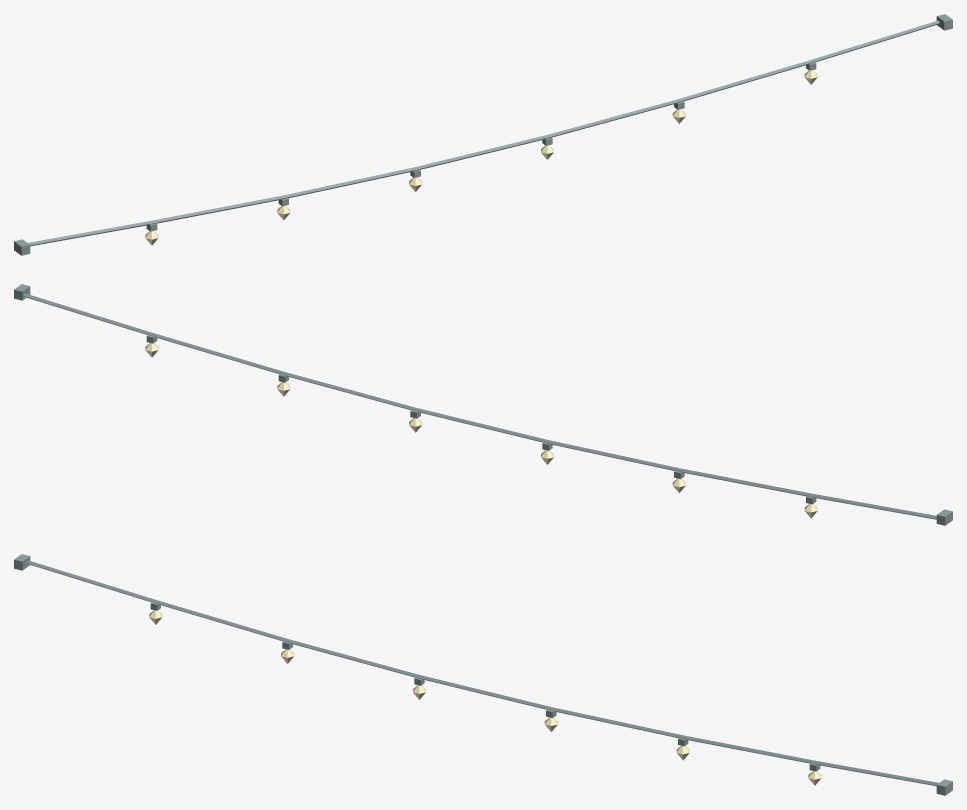
File: string_lights_4.glb
3 views of the same model, one above another, from view 1: azimuth 30°, elevation 25°; view 2: azimuth 150°, elevation 25°; view 3: azimuth 330°, elevation 25° (orthographic).
Visible parts, largest first — view 1: Cord.001, Cord.002, Cord.003, Cord.004, Cord.005, Cord.006, Cord; view 2: Cord.005, Cord.001, Cord.004, Cord.002, Cord.003, Cord.006, Cord; view 3: Cord.005, Cord.001, Cord.002, Cord.003, Cord.004, Cord, Cord.006.
Boxes of the visible parts, <box> form: Cord.001: <box>152,195,284,223</box>; Cord.002: <box>284,167,416,198</box>; Cord.003: <box>416,135,548,170</box>; Cord.004: <box>547,99,680,137</box>; Cord.005: <box>679,60,811,101</box>; Cord.006: <box>811,20,939,62</box>; Cord: <box>28,220,152,246</box>; Cord.005: <box>151,332,283,374</box>; Cord.001: <box>678,468,810,496</box>; Cord.004: <box>283,372,415,410</box>; Cord.002: <box>546,440,678,471</box>; Cord.003: <box>414,408,547,442</box>; Cord.006: <box>23,293,151,335</box>; Cord: <box>810,493,936,519</box>; Cord.005: <box>682,735,814,763</box>; Cord.001: <box>155,600,287,641</box>; Cord.002: <box>286,639,419,677</box>; Cord.003: <box>418,675,550,710</box>; Cord.004: <box>550,707,682,738</box>; Cord: <box>27,560,155,602</box>; Cord.006: <box>814,760,938,786</box>.
Size of the model in its own units: 1.79 by 0.0864 by 0.0301.
